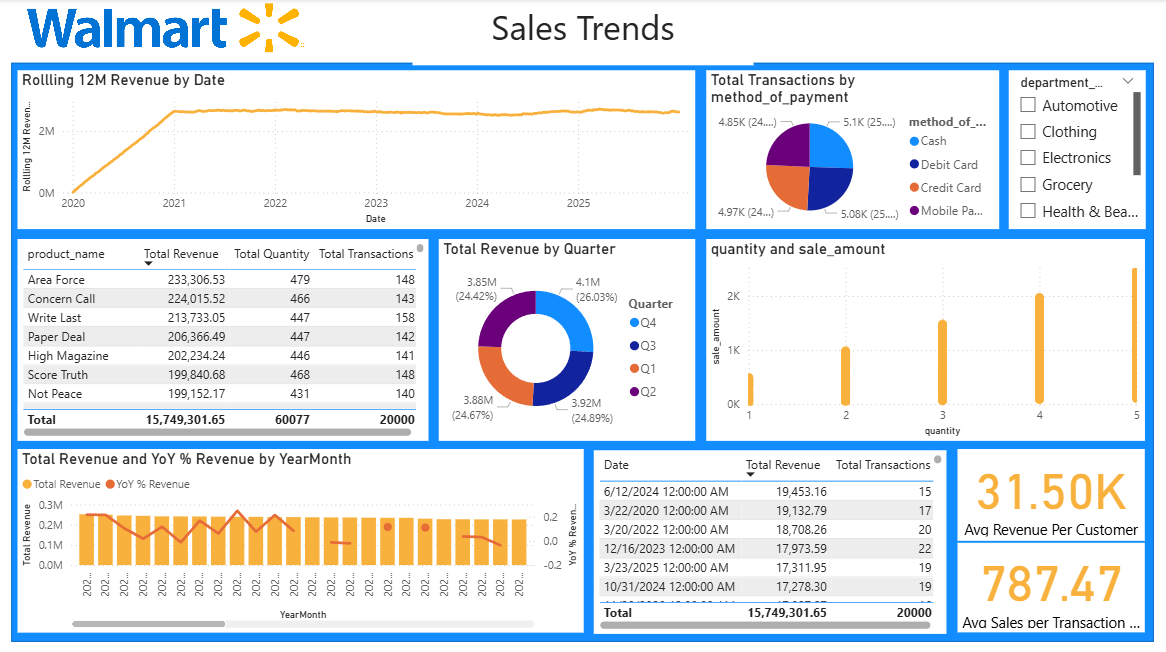

The page's visual inventory and layout, read from the dashboard file:
{"tool":"powerbi","page":{"name":"Sales Trends","canvas":[1280,720],"ordinal":1},"visuals":[{"type":"shape","box":[12.9,70,1254.3,635.7],"z":0},{"type":"textbox","box":[452.9,0,374.3,72.9],"z":1000},{"type":"lineChart","fields":{"Y":["FactSales.Rollling 12M Revenue"],"Category":["DimDate.Date"]},"box":[18.6,78.6,744.3,174.3],"z":2000},{"type":"lineStackedColumnComboChart","fields":{"Category":["DimDate.YearMonth"],"Y":["FactSales.Total Revenue"],"Y2":["FactSales.YoY % Revenue"]},"box":[18.6,494.3,621.4,201.4],"z":3000},{"type":"tableEx","fields":{"Values":["DimDate.Date","FactSales.Total Revenue","FactSales.Total Transactions"]},"box":[651.4,495.7,387.1,201.4],"z":4000},{"type":"tableEx","fields":{"Values":["FactSales.product_name","FactSales.Total Revenue","FactSales.Total Quantity","FactSales.Total Transactions"]},"box":[18.6,262.9,451.4,221.4],"z":5000},{"type":"donutChart","fields":{"Category":["DimDate.Quarter"],"Y":["FactSales.Total Revenue"]},"box":[481.4,262.9,281.4,221.4],"z":6000},{"type":"slicer","fields":{"Values":["FactSales.department_name"]},"box":[1107.1,78.6,150,174.3],"z":7000},{"type":"card","fields":{"Values":["FactSales.Avg Revenue Per Customer"]},"box":[1051.4,494.3,205.7,100.7],"z":8000},{"type":"card","fields":{"Values":["FactSales.Avg Sales per Transaction (Dept)"]},"box":[1051.4,597.1,205.7,98.6],"z":9000},{"type":"scatterChart","fields":{"X":["FactSales.quantity"],"Y":["FactSales.sale_amount"]},"box":[775.7,262.9,481.4,221.4],"z":10000},{"type":"pieChart","fields":{"Y":["FactSales.Total Transactions"],"Category":["FactSales.method_of_payment"]},"box":[775.7,78.6,321.4,174.3],"z":11000},{"type":"image","box":[24.7,0,314.3,63.6],"z":12000}]}

Visuals, with their boxes in screenshot pixels (x1, y1, x2, y2), scaled from the page's 1280x720 canvas onto the 1166x652 screenshot:
shape: 12 63 1154 639
textbox: 413 0 754 66
lineChart - FactSales.Rollling 12M Revenue x DimDate.Date: 17 71 695 229
lineStackedColumnComboChart - DimDate.YearMonth x FactSales.Total Revenue: 17 448 583 630
tableEx - DimDate.Date x FactSales.Total Revenue: 593 449 946 631
tableEx - FactSales.product_name x FactSales.Total Revenue: 17 238 428 439
donutChart - DimDate.Quarter x FactSales.Total Revenue: 439 238 695 439
slicer - FactSales.department_name: 1008 71 1145 229
card - FactSales.Avg Revenue Per Customer: 958 448 1145 539
card - FactSales.Avg Sales per Transaction (Dept): 958 541 1145 630
scatterChart - FactSales.quantity x FactSales.sale_amount: 707 238 1145 439
pieChart - FactSales.Total Transactions x FactSales.method_of_payment: 707 71 999 229
image: 23 0 309 58
